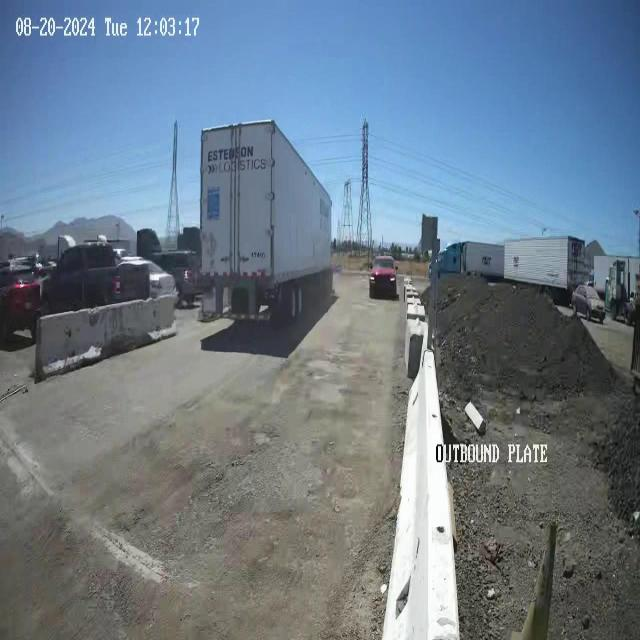TRUCK_CONTAINER: (199, 118, 333, 321)
